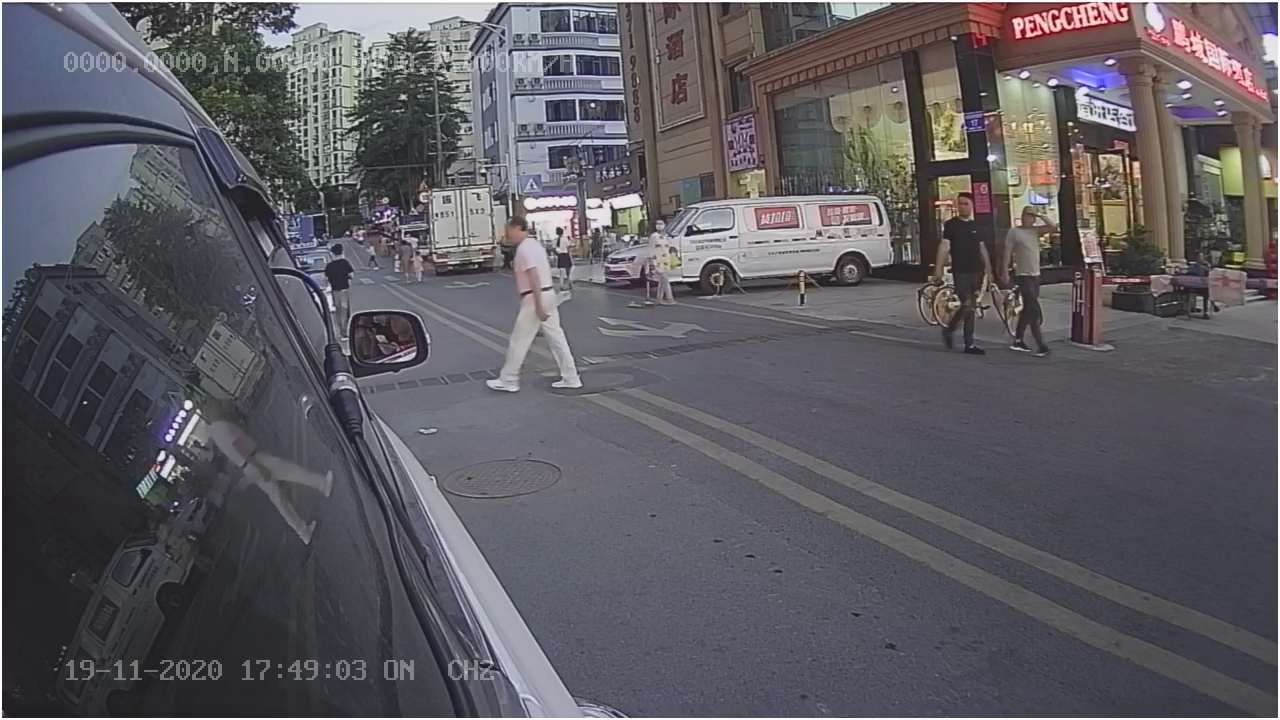person: (489, 217, 589, 402)
